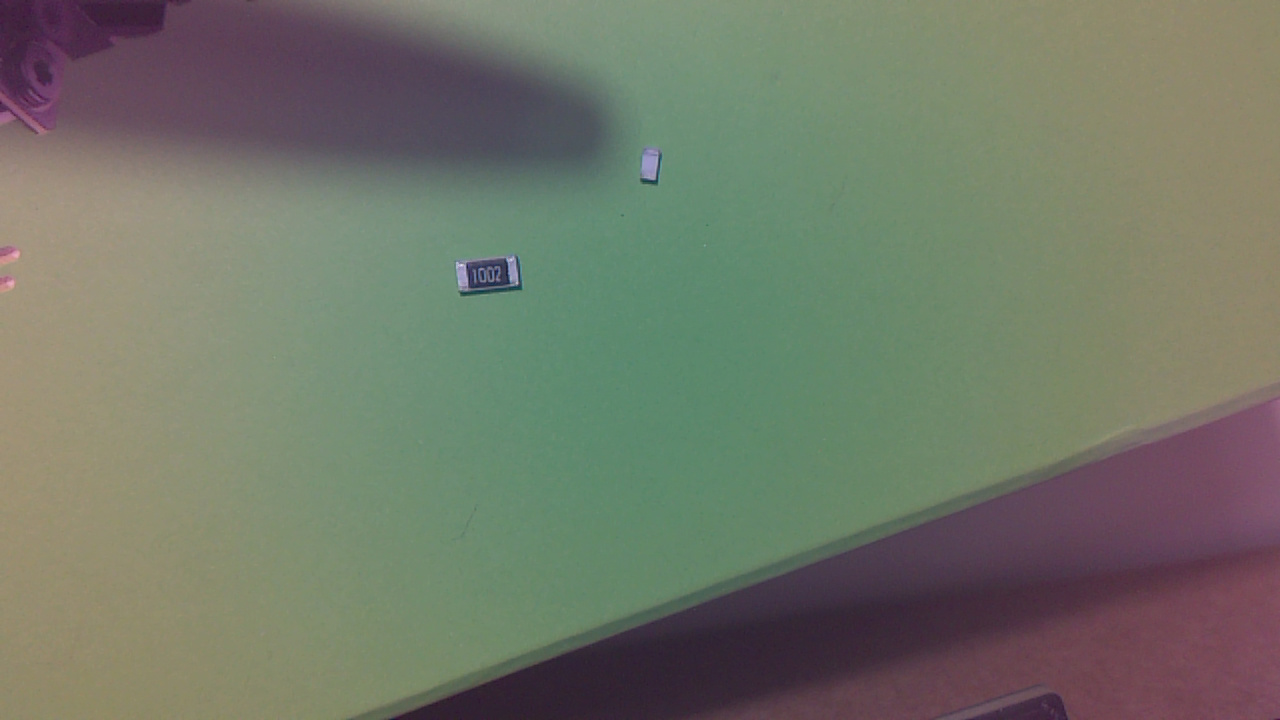Resistor: (461, 257, 528, 303)
